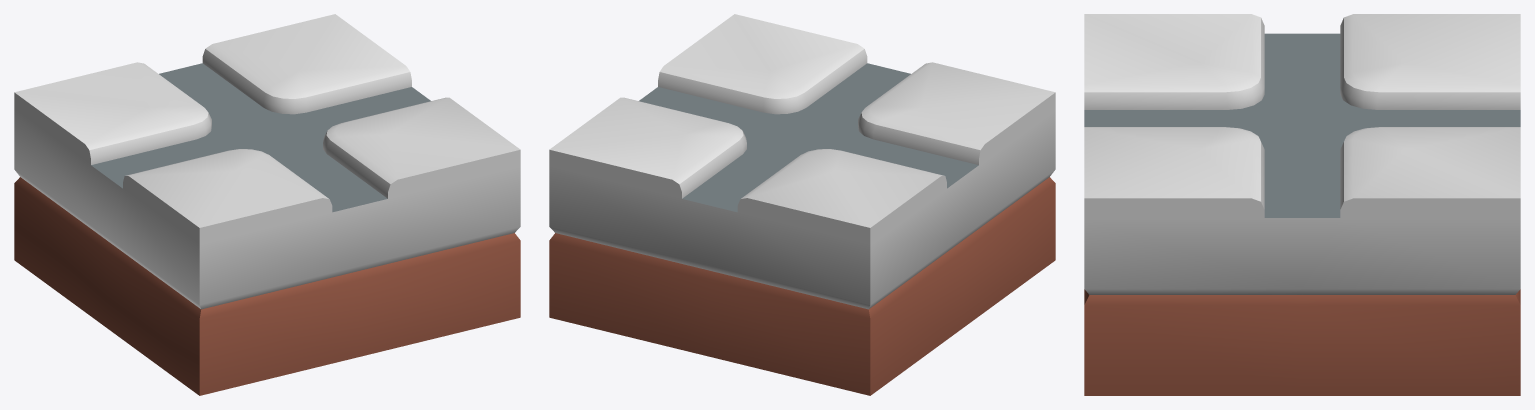
Rendered from square_snow_roadE_detail.fbx.
3 views of the same model, side by side, from view 1: azimuth 30°, elevation 25°; view 2: azimuth 150°, elevation 25°; view 3: azimuth 270°, elevation 25° (orthographic). The views are drawn at different scales.
Visible parts, largest first — view 1: square_snow_roadE_detail; view 2: square_snow_roadE_detail; view 3: square_snow_roadE_detail.
Part boxes in pixels (x1,y1,x2,y2): square_snow_roadE_detail: [14, 14, 520, 395]; square_snow_roadE_detail: [549, 14, 1055, 395]; square_snow_roadE_detail: [1084, 14, 1520, 395].
Bounding box in the file's own units: 2 × 1 × 2.
